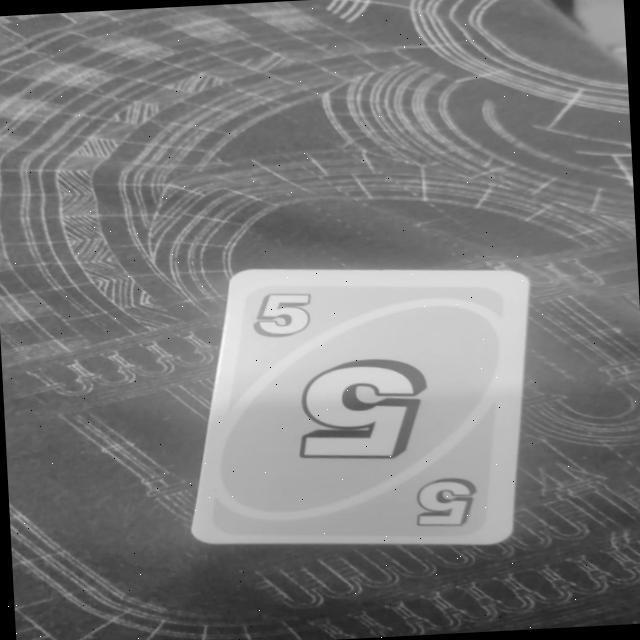card_5: (175, 253, 543, 560)
